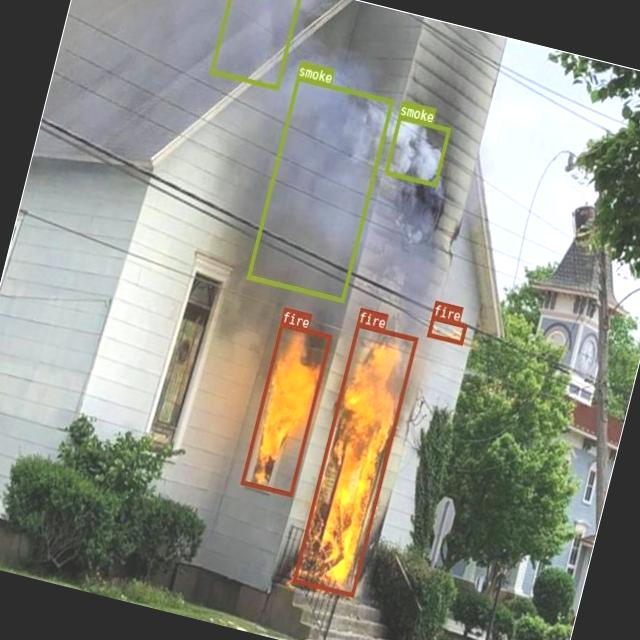fire: (292, 322, 418, 596), (240, 322, 332, 496), (426, 314, 466, 344)
smoke: (246, 75, 393, 302), (209, 0, 301, 89), (384, 115, 449, 186)
